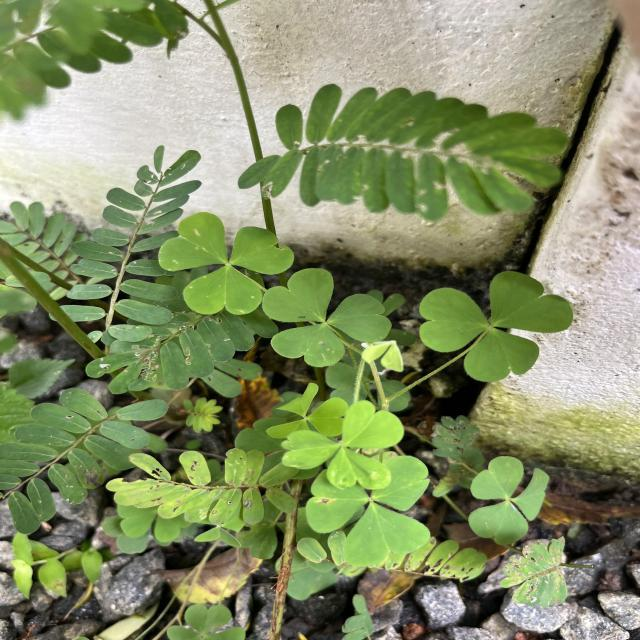Oxalis corniculata: (418, 268, 574, 382), (303, 453, 433, 569), (156, 211, 298, 316), (263, 266, 392, 368), (279, 398, 406, 491), (469, 454, 551, 546), (265, 379, 348, 439)
